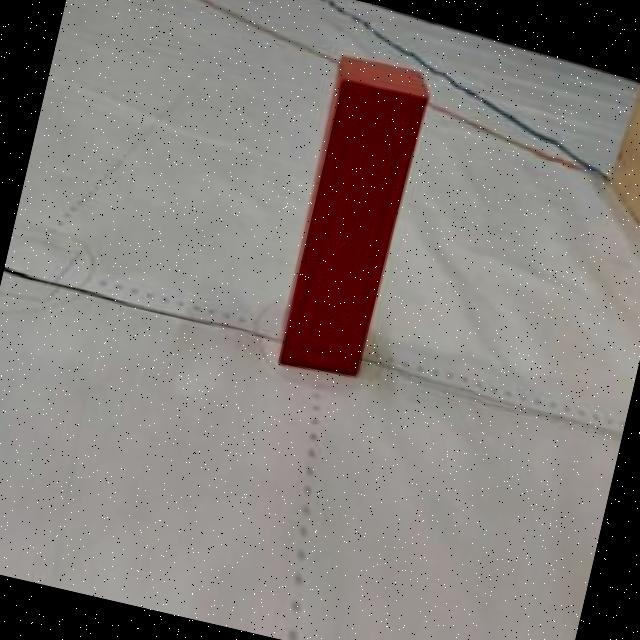redbox: (272, 54, 434, 383)
